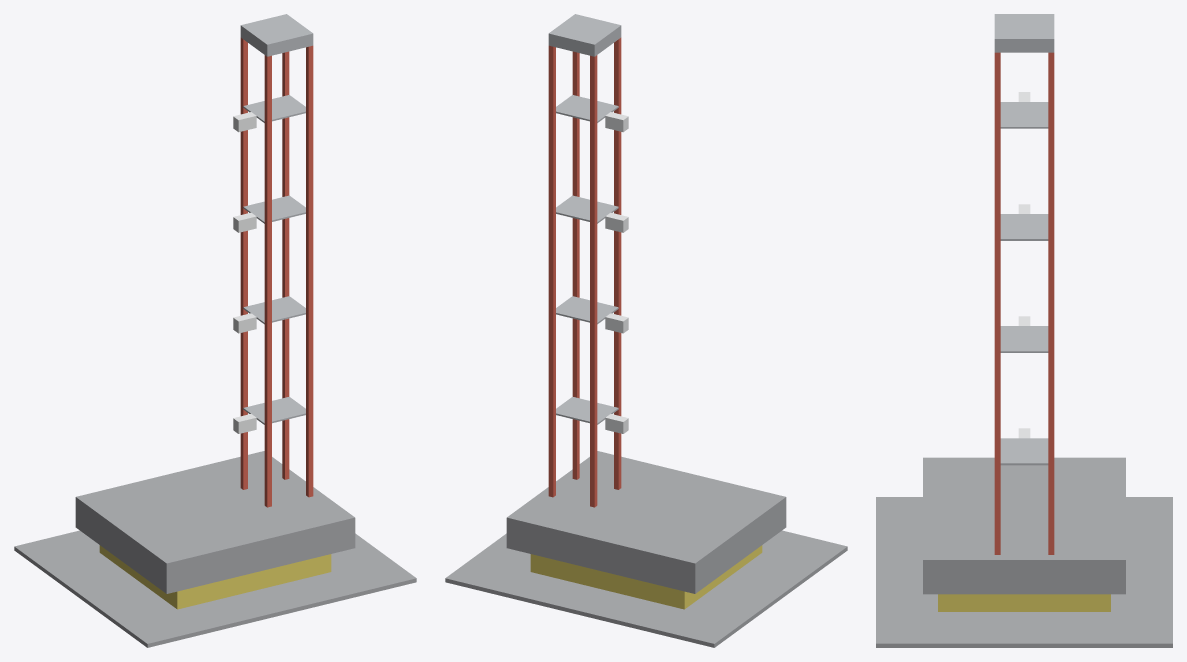
The model's file is launch_tower.glb.
The picture shows the model from 3 angles, left to right: view 1: azimuth 30°, elevation 25°; view 2: azimuth 150°, elevation 25°; view 3: azimuth 270°, elevation 25°; orthographic projection. The views are drawn at different scales.
Parts seen in each view (by area): view 1: launch_platform, crawlerway_pad, tower_leg_1, tower_leg_2, crawler_transporter, tower_leg_4, tower_leg_3, hammerhead_crane, tower_deck_2, tower_deck_3, tower_deck_4, tower_deck_1; view 2: launch_platform, crawlerway_pad, tower_leg_4, tower_leg_3, crawler_transporter, tower_leg_1, tower_leg_2, hammerhead_crane, tower_deck_2, tower_deck_3, tower_deck_4, tower_deck_1; view 3: launch_platform, crawlerway_pad, tower_leg_2, tower_leg_3, crawler_transporter, hammerhead_crane, tower_deck_1, tower_deck_2, tower_deck_3, tower_deck_4.
Part boxes in pixels (x1,y1,x2,y2): launch_platform: [75, 451, 355, 593]; crawlerway_pad: [14, 530, 416, 647]; tower_leg_1: [264, 55, 271, 507]; tower_leg_2: [306, 45, 313, 497]; crawler_transporter: [99, 545, 331, 609]; tower_leg_4: [240, 37, 247, 489]; tower_leg_3: [282, 51, 289, 479]; hammerhead_crane: [240, 14, 313, 56]; tower_deck_2: [243, 296, 305, 324]; tower_deck_3: [243, 195, 305, 223]; tower_deck_4: [243, 95, 305, 122]; tower_deck_1: [243, 396, 305, 424]; launch_platform: [506, 451, 786, 593]; crawlerway_pad: [445, 530, 847, 647]; tower_leg_4: [590, 55, 597, 507]; tower_leg_3: [548, 45, 555, 497]; crawler_transporter: [530, 545, 762, 609]; tower_leg_1: [614, 37, 621, 489]; tower_leg_2: [572, 51, 579, 479]; hammerhead_crane: [548, 14, 621, 56]; tower_deck_2: [556, 296, 618, 324]; tower_deck_3: [556, 195, 618, 223]; tower_deck_4: [556, 95, 618, 122]; tower_deck_1: [556, 396, 618, 424]; launch_platform: [923, 457, 1125, 594]; crawlerway_pad: [876, 497, 1172, 647]; tower_leg_2: [994, 52, 1000, 554]; tower_leg_3: [1048, 52, 1054, 554]; crawler_transporter: [938, 594, 1110, 611]; hammerhead_crane: [994, 14, 1054, 52]; tower_deck_1: [1000, 438, 1048, 465]; tower_deck_2: [1000, 326, 1048, 352]; tower_deck_3: [1000, 214, 1048, 240]; tower_deck_4: [1000, 102, 1048, 128].
Size of the model in its own units: 70 by 130 by 60.
